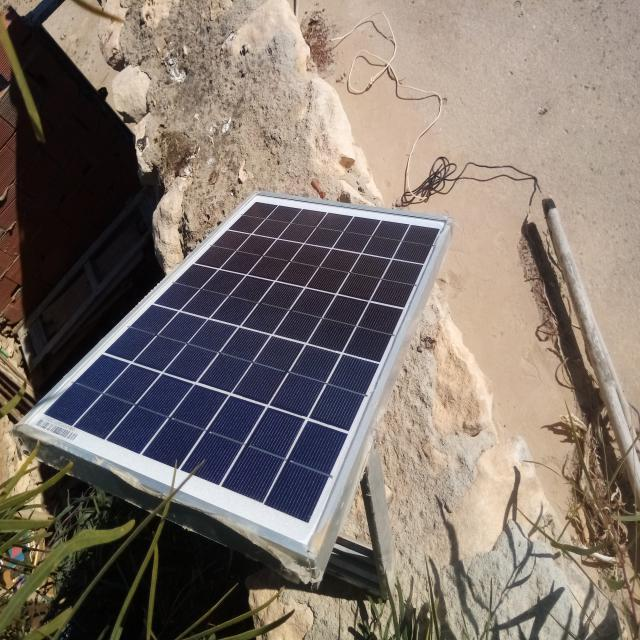Normal Solar Panel: (17, 195, 449, 558)
